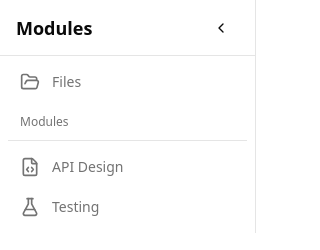
Scenario: Sidebar › mobile sidebar toggle (T058) › should toggle sidebar visibility on button click
Note: Click to toggle
Click the button named "Toggle sidebar" at [221, 28], box [203, 10, 239, 46]
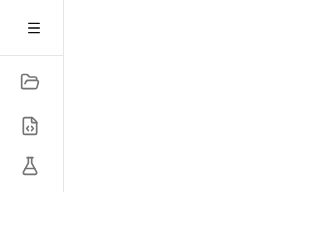
Check: the navigation bar has attribute data-collapsed, box [0, 0, 64, 192]
